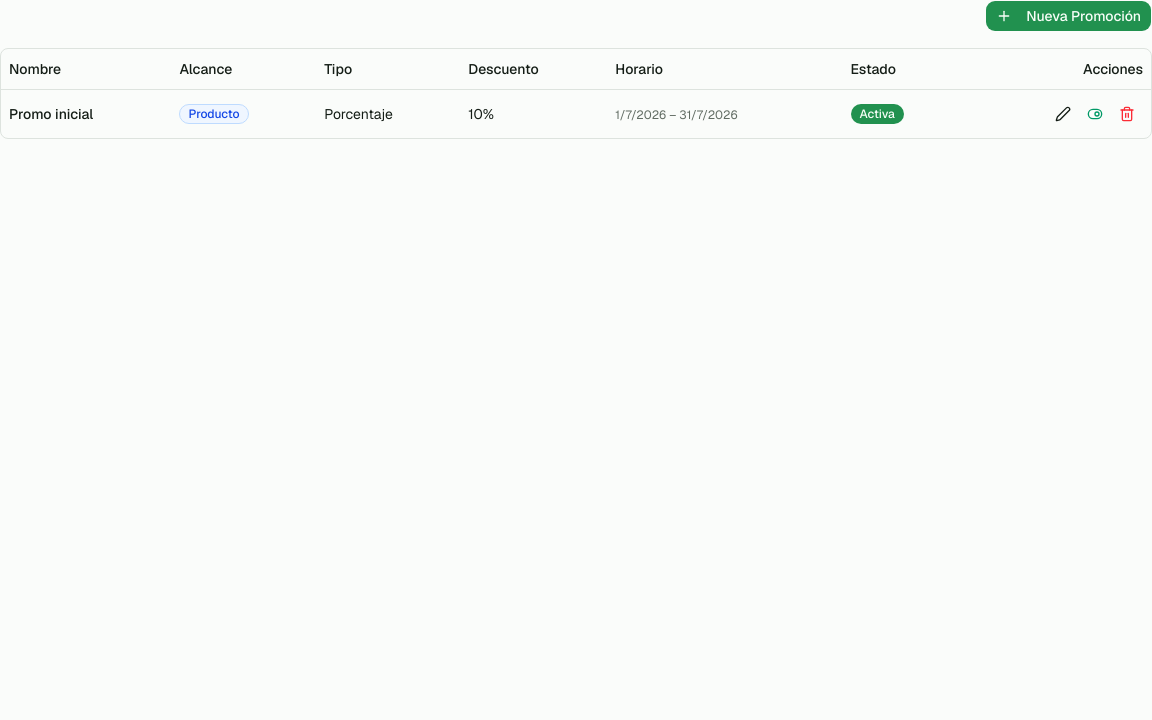
Test case: PromotionsShell › creates a promotion and refreshes the displayed list
This screenshot has width=1152, height=720.
Expected: the text "Promo inicial" is shown, 1,89 -> 171,138
Click the button "Nueva Promoción" at (1069, 16), box 985,0 -> 1151,32
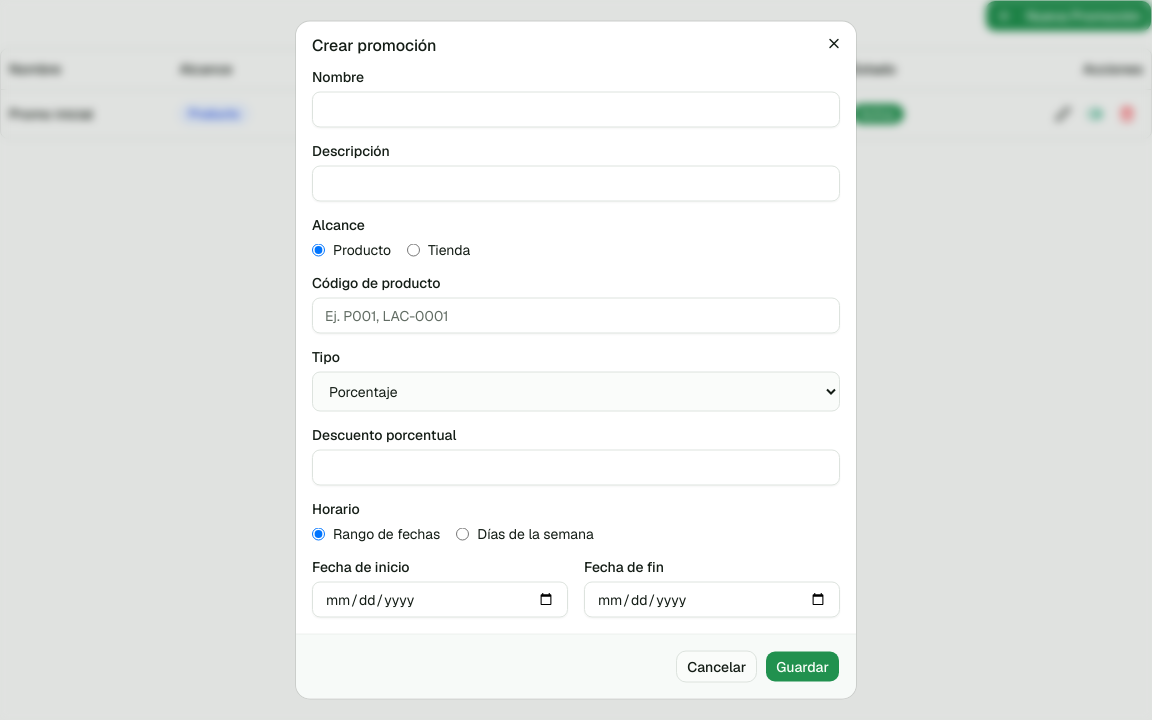
Result: the dialog is shown at 296,22 -> 856,698
Type "Promo nueva" into the field labelled "Nombre" at (576, 110), box 312,92 -> 840,128
Type "Nuevo descuento" into the field labelled "Descripción" at (576, 184), box 312,166 -> 840,202
Type "P002" into the field labelled "Código de producto" at (576, 316), box 312,298 -> 840,334
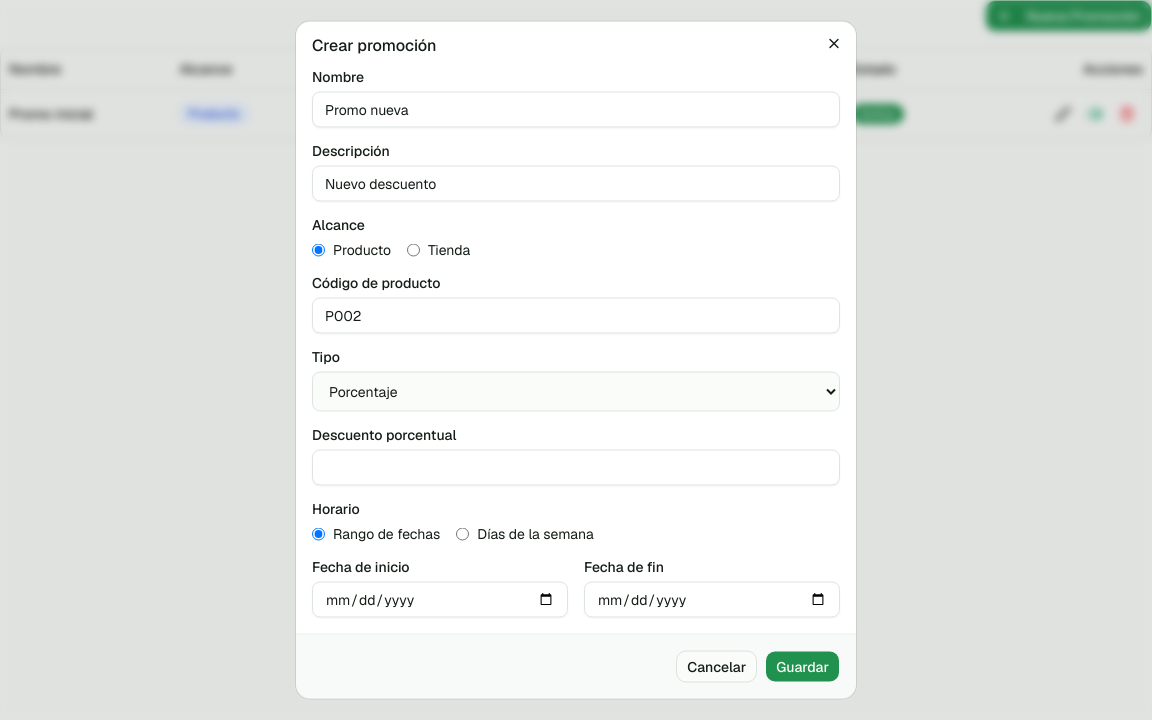
Type "15" into the number field labelled "Descuento porcentual" at (576, 468), box 312,450 -> 840,486
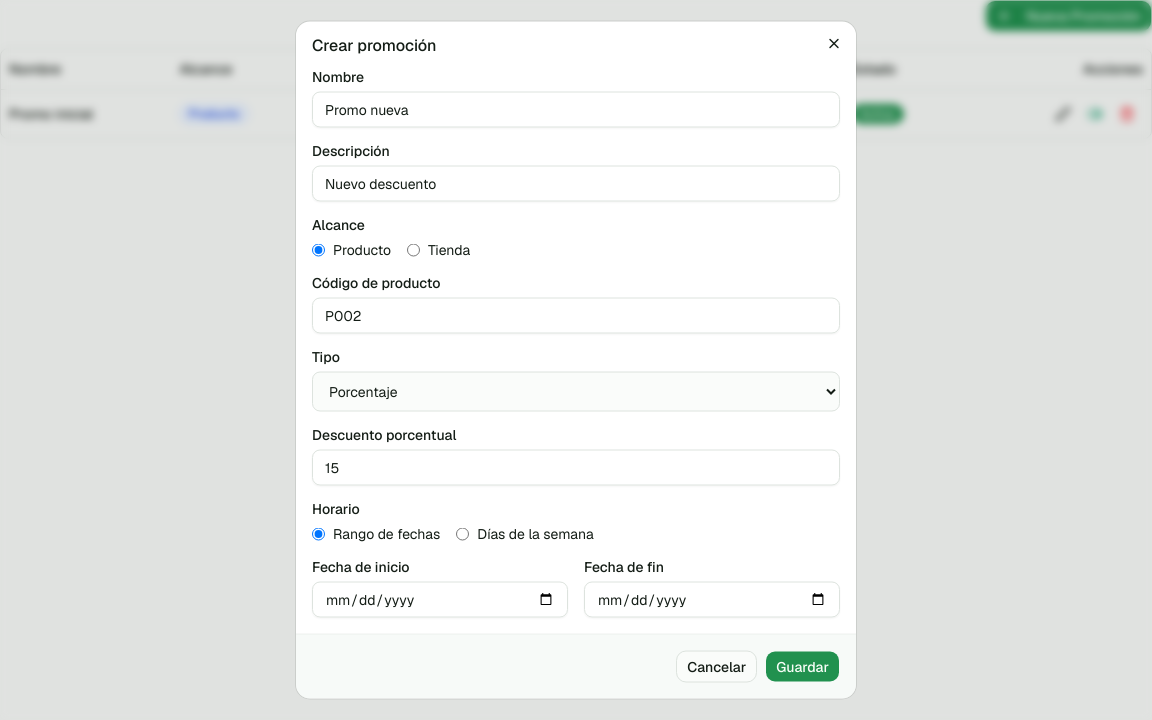
Type "2026-08-01" into the date field labelled "Fecha de inicio" at (440, 600), box 312,582 -> 568,618
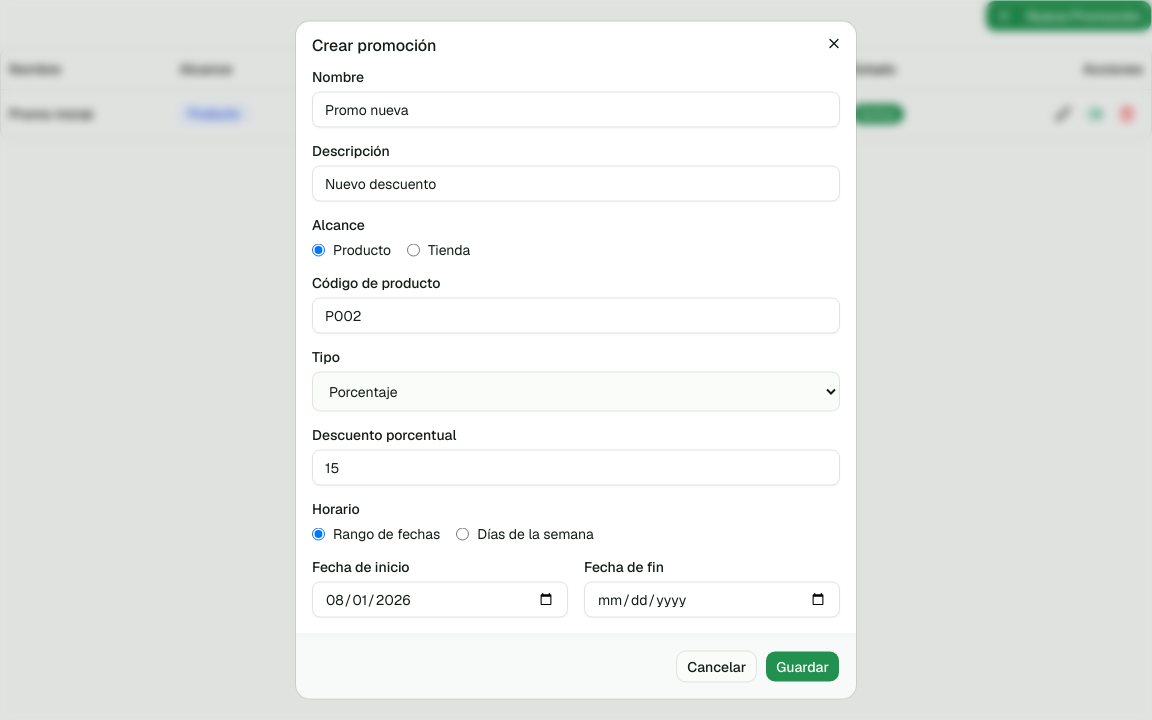
Type "2026-08-31" into the date field labelled "Fecha de fin" at (712, 600), box 584,582 -> 840,618
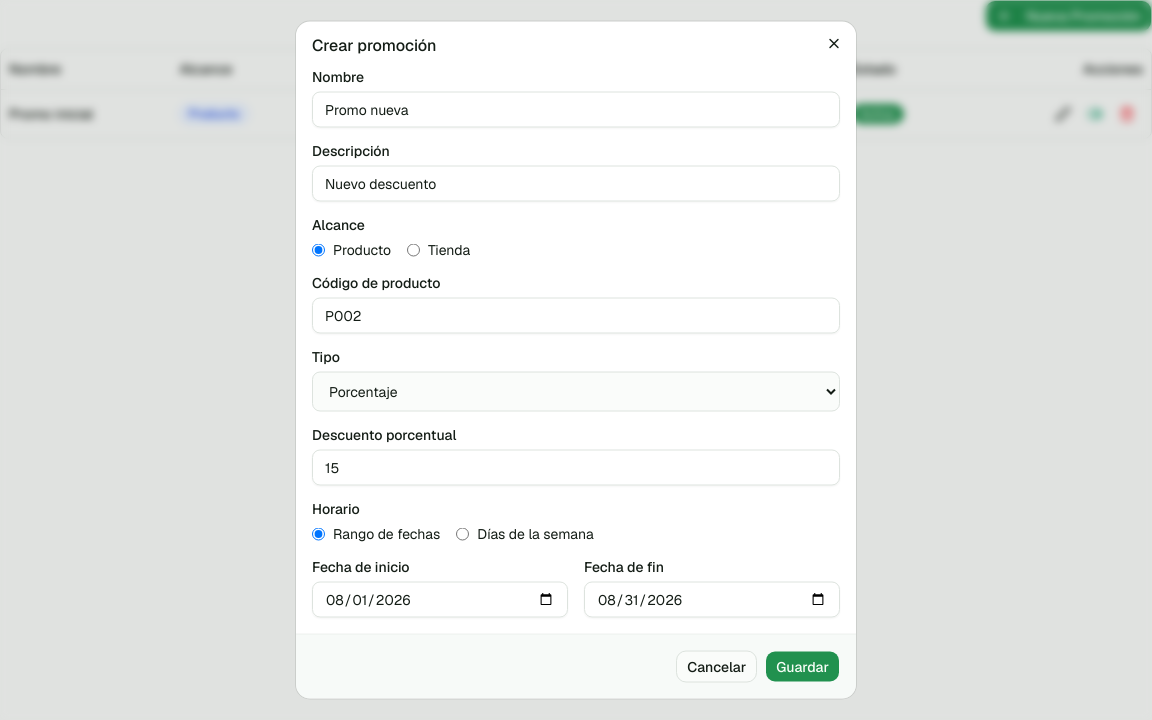
Click the button "Guardar" at (803, 666), box 765,650 -> 840,682
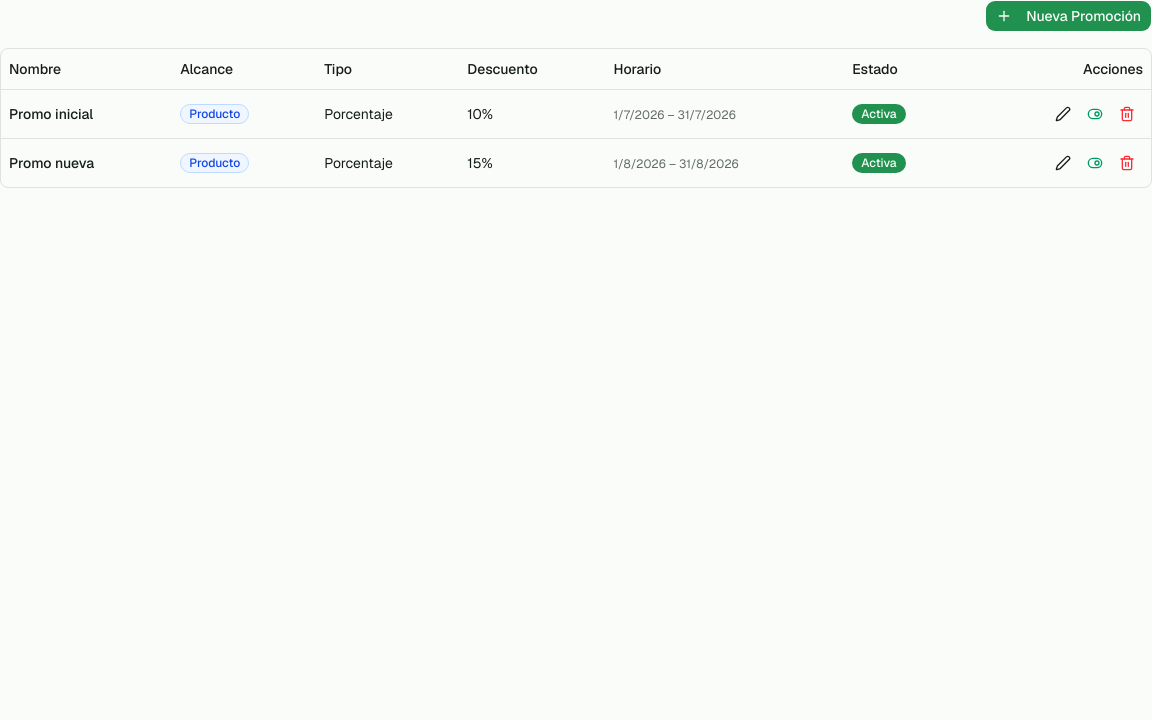
Result: the text "Promo nueva" is shown at 1,138 -> 172,186
Result: the icon "Activa" in the row of "Promo nueva" is shown at 861,155 -> 897,171
